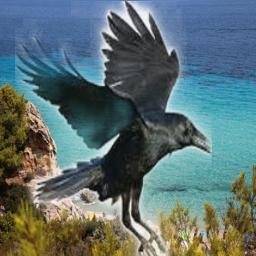Crow: (15, 1, 212, 256)
